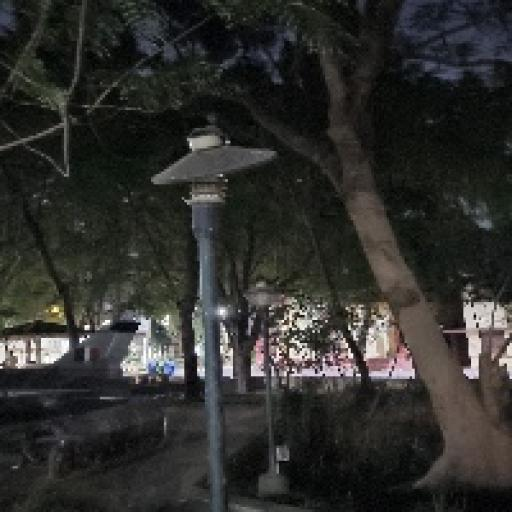Not Working: (148, 110, 280, 222)
